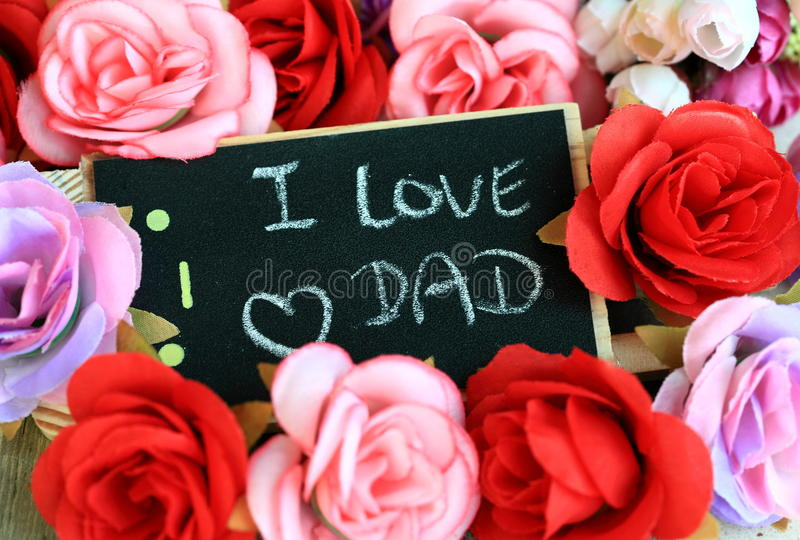RedRose: (560, 86, 800, 309), (461, 329, 707, 540), (26, 354, 256, 540)
